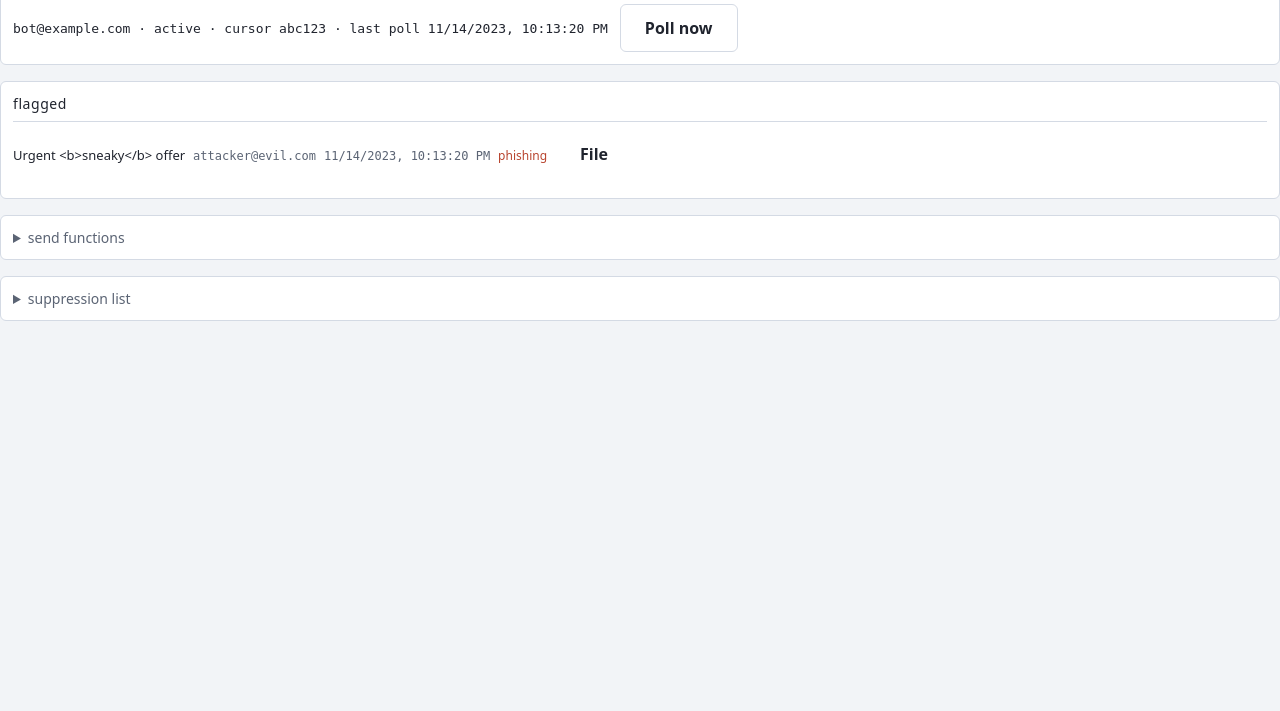
Test: send function list shows parity meta and Edit fills the form field-for-field
Click the heading "send functions": (76, 238) x1=28 y1=228 x2=125 y2=247
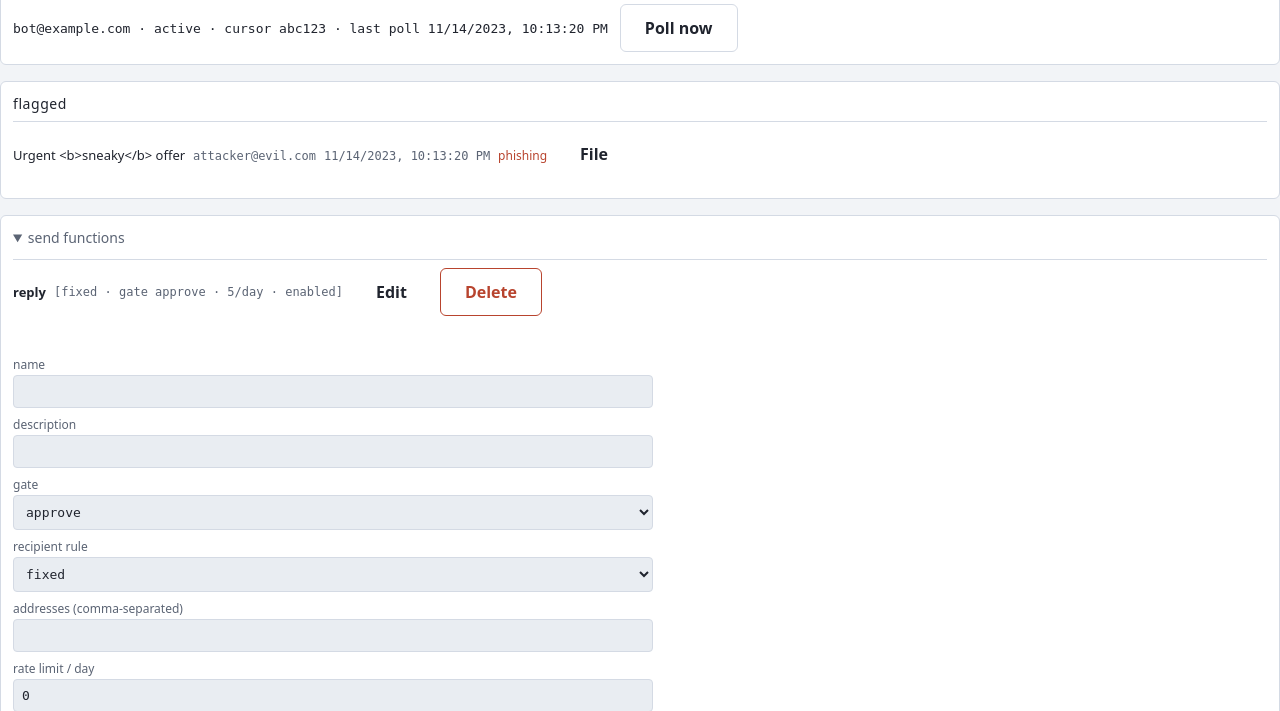
Now the text "[fixed · gate approve · 5/day · enabled]" is shown, box x1=54 y1=285 x2=343 y2=299
Click the button "Edit": (391, 292) x1=351 y1=268 x2=432 y2=316
(page scrolled)
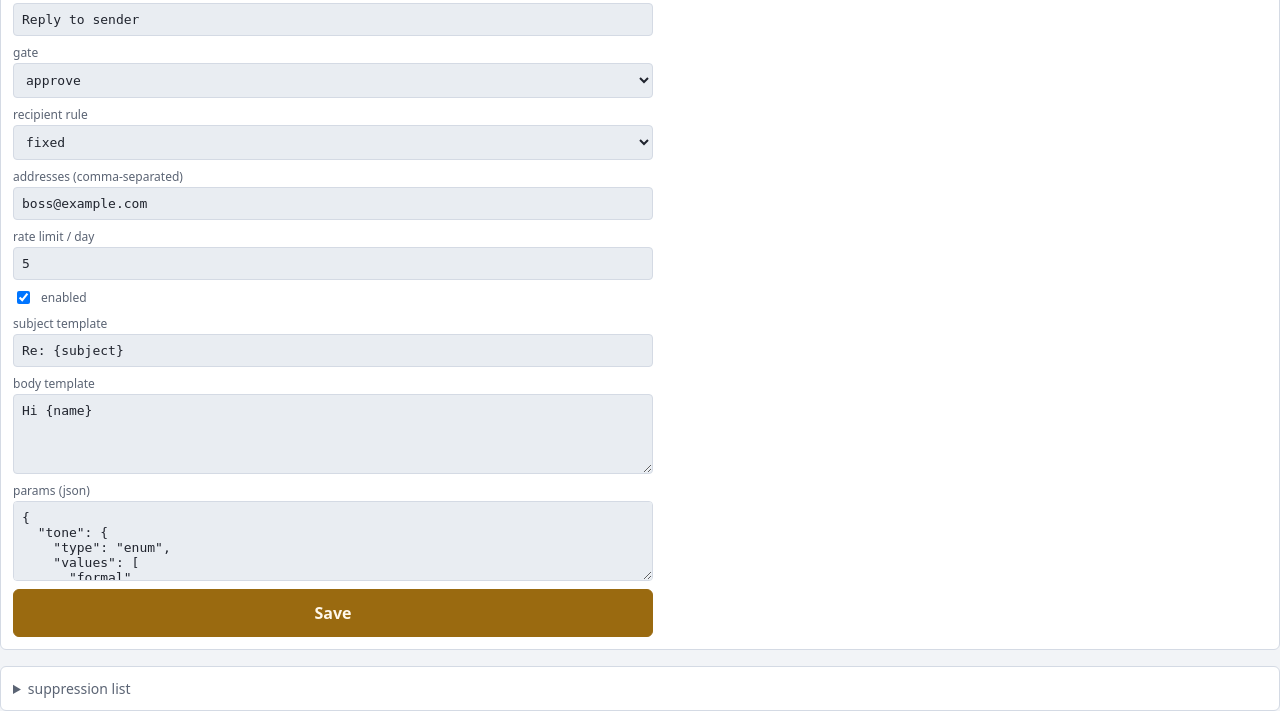
Now the dropdown named "fn gate" shows "approve", box x1=13 y1=63 x2=653 y2=98
Now the dropdown named "fn rule type" shows "fixed", box x1=13 y1=125 x2=653 y2=160
Now the field named "fn description" holds "Reply to sender", box x1=13 y1=3 x2=653 y2=36
